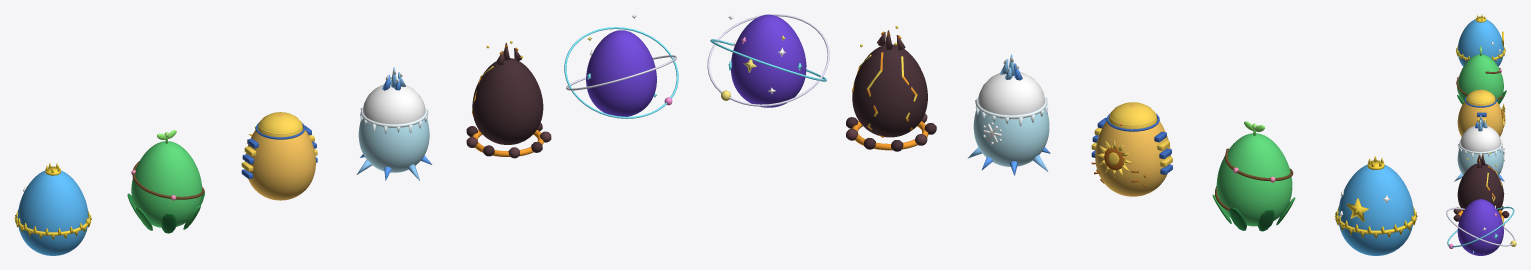
The model's file is pack_eggs.fbx.
3 views of the same model, side by side, from view 1: azimuth 30°, elevation 25°; view 2: azimuth 150°, elevation 25°; view 3: azimuth 270°, elevation 25° (orthographic). The views are drawn at different scales.
Parts seen in each view (by area): view 1: egg_lava, egg_galaxy, egg_ice, egg_forest, egg_desert, egg_starter; view 2: egg_lava, egg_galaxy, egg_ice, egg_forest, egg_desert, egg_starter; view 3: egg_galaxy, egg_ice, egg_lava, egg_starter, egg_forest, egg_desert.
Boxes of the visible parts, box(x1,y1,x2,y2) form: egg_lava: box(466, 41, 551, 158); egg_galaxy: box(564, 14, 678, 118); egg_ice: box(356, 67, 432, 180); egg_forest: box(127, 130, 204, 233); egg_desert: box(241, 112, 317, 200); egg_starter: box(14, 163, 91, 255); egg_lava: box(846, 26, 936, 151); egg_galaxy: box(707, 14, 829, 107); egg_ice: box(967, 54, 1050, 175); egg_forest: box(1212, 121, 1295, 231); egg_desert: box(1091, 102, 1172, 196); egg_starter: box(1334, 156, 1417, 255); egg_galaxy: box(1446, 196, 1516, 255); egg_ice: box(1454, 115, 1504, 181); egg_lava: box(1453, 152, 1509, 221); egg_starter: box(1456, 14, 1505, 66); egg_forest: box(1456, 46, 1506, 104); egg_desert: box(1457, 89, 1505, 136).
Size of the model in its own units: 51.56 by 7.8 by 7.39.
Materials: 6 (6 with a texture image).
